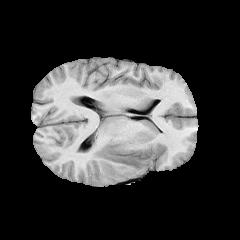glioma: (93, 140, 145, 173)
